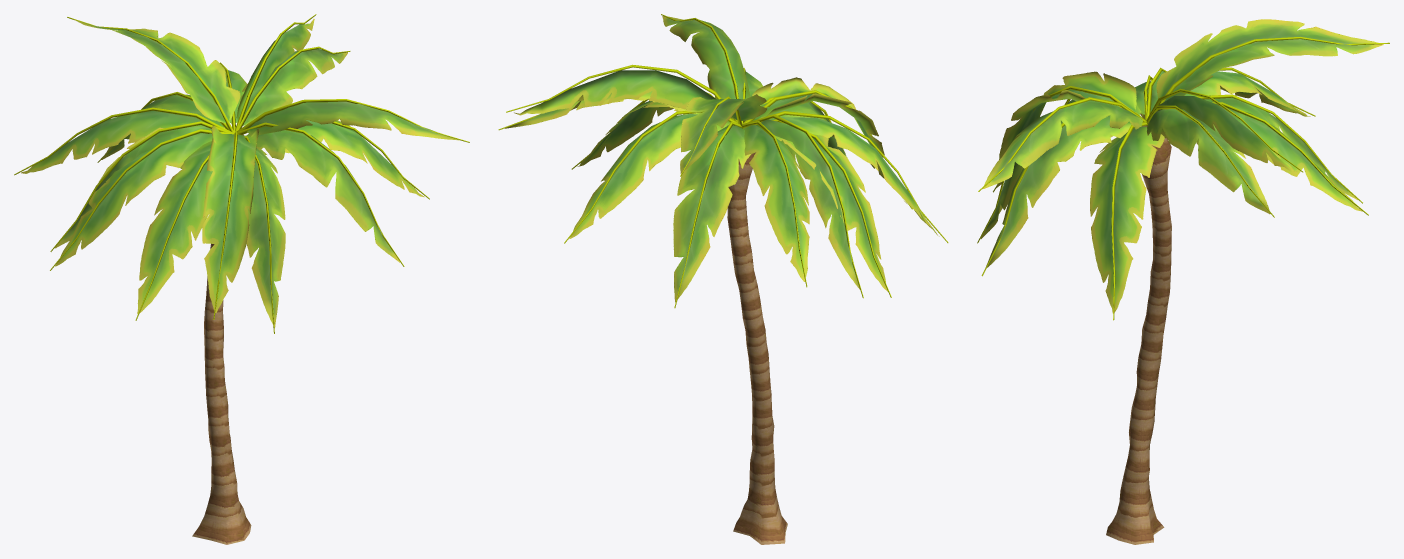
Rendered from SM_PalmTree_var2.fbx.
3 views of the same model, side by side, from view 1: azimuth 30°, elevation 25°; view 2: azimuth 150°, elevation 25°; view 3: azimuth 270°, elevation 25° (orthographic). The views are drawn at different scales.
Parts seen in each view (by area): view 1: SM_PalmTree_var2; view 2: SM_PalmTree_var2; view 3: SM_PalmTree_var2.
Part boxes in pixels (x1,y1,x2,y2): SM_PalmTree_var2: (14,14,469,544); SM_PalmTree_var2: (498,14,948,544); SM_PalmTree_var2: (977,19,1389,544).
Bounding box in the file's own units: 315 × 407 × 305.
